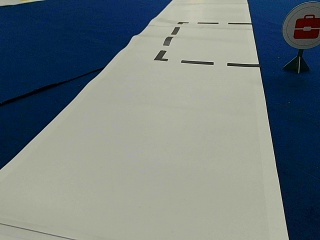company: (282, 2, 319, 49)
